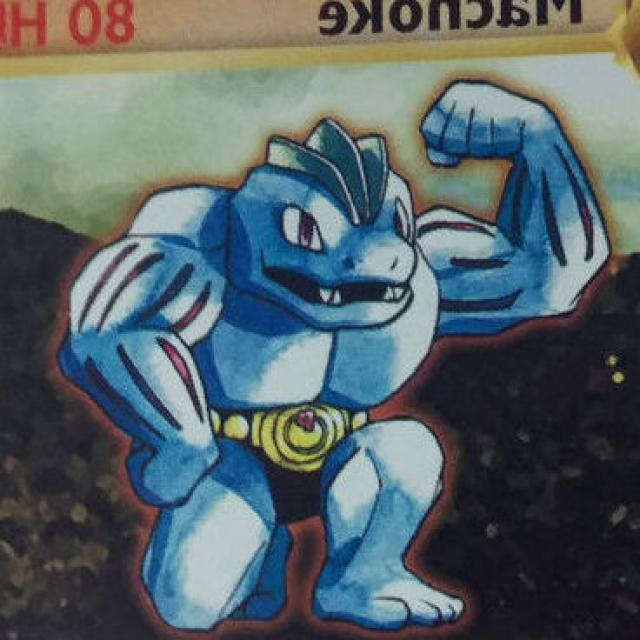Machoke: (105, 74, 538, 634)
